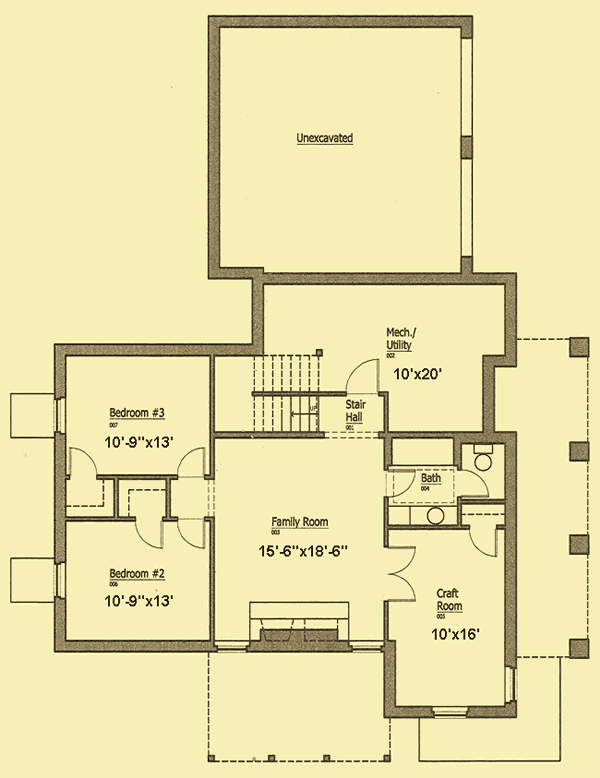door: (378, 542, 419, 611), (342, 355, 383, 400), (461, 518, 500, 561), (170, 513, 209, 555), (381, 462, 418, 504), (456, 466, 492, 509), (129, 511, 166, 552), (171, 443, 207, 483), (66, 442, 99, 485)
large sink: (466, 440, 502, 479)
small sink: (409, 506, 461, 533)
stairs: (251, 350, 327, 438)
windows: (455, 153, 476, 261), (456, 28, 472, 142), (423, 700, 472, 727), (50, 390, 71, 439), (209, 637, 253, 657), (53, 557, 71, 604), (349, 639, 384, 657)
